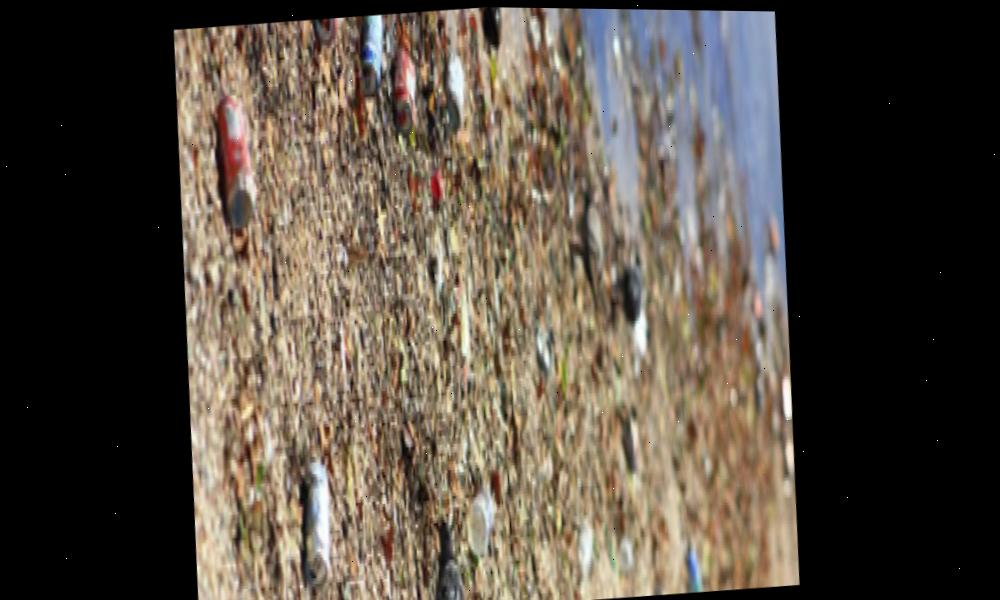can: (206, 76, 274, 235), (301, 449, 351, 599), (431, 47, 481, 146), (384, 39, 431, 139), (352, 12, 400, 101), (463, 474, 511, 559), (311, 17, 348, 75)
